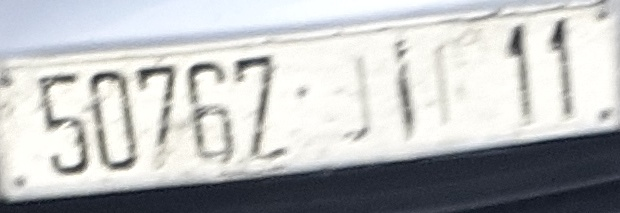0: (88, 69, 140, 170)
1: (503, 21, 538, 126), (546, 18, 580, 121)
5: (37, 72, 91, 176)
6: (187, 62, 238, 168)
7: (231, 56, 281, 160), (135, 65, 179, 170)
a: (390, 37, 421, 144)
